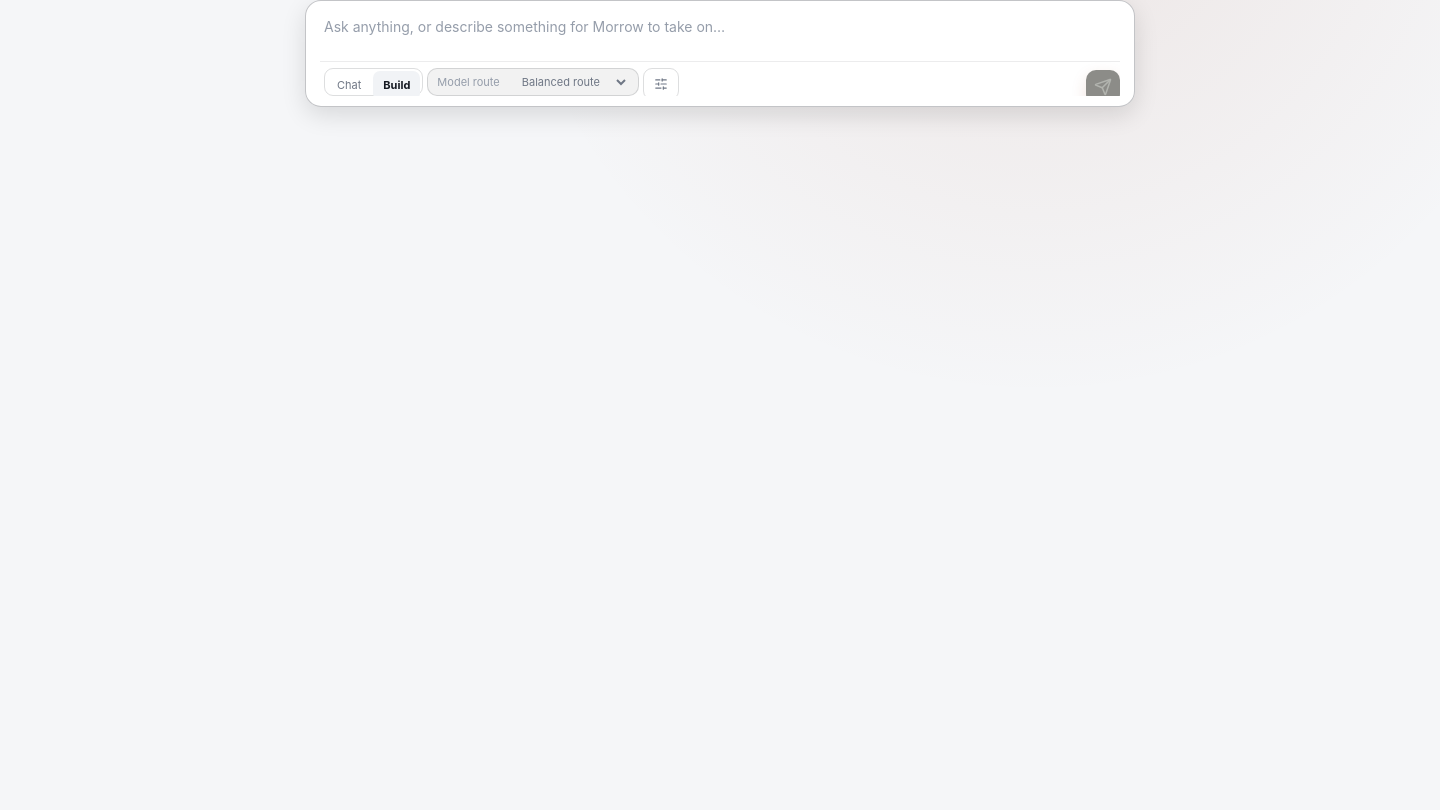
ChatComposer › defaults a fresh install to Build with a trusted workspace
Click the button named "Workspace and message settings".
click(661, 84)  # box [643,68,679,100]
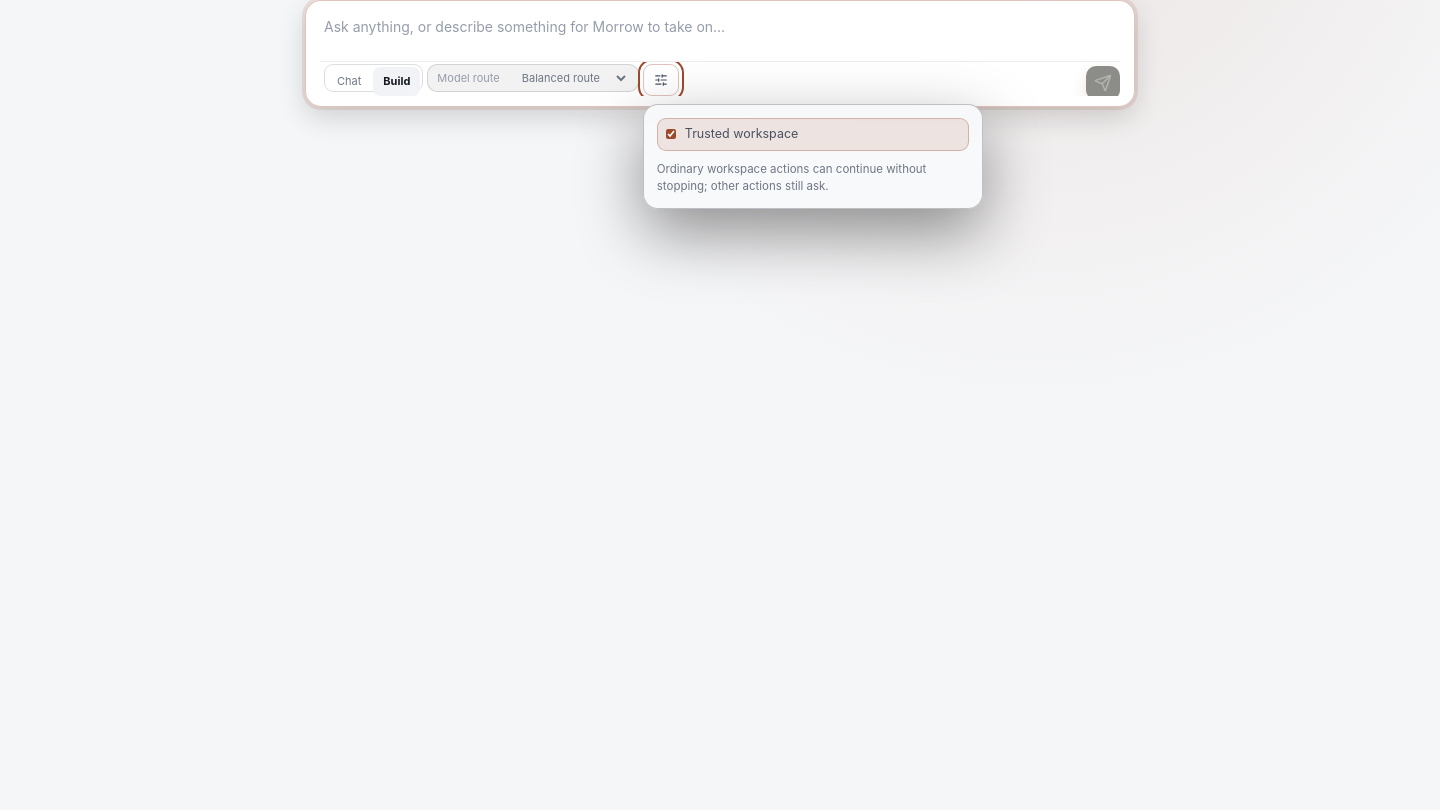
Now the checkbox labelled "Trusted workspace" is checked, box [666,129,676,139]
Now the text "Ordinary workspace actions can continue without stopping; other actions still ask." is shown, box [657,162,926,193]
